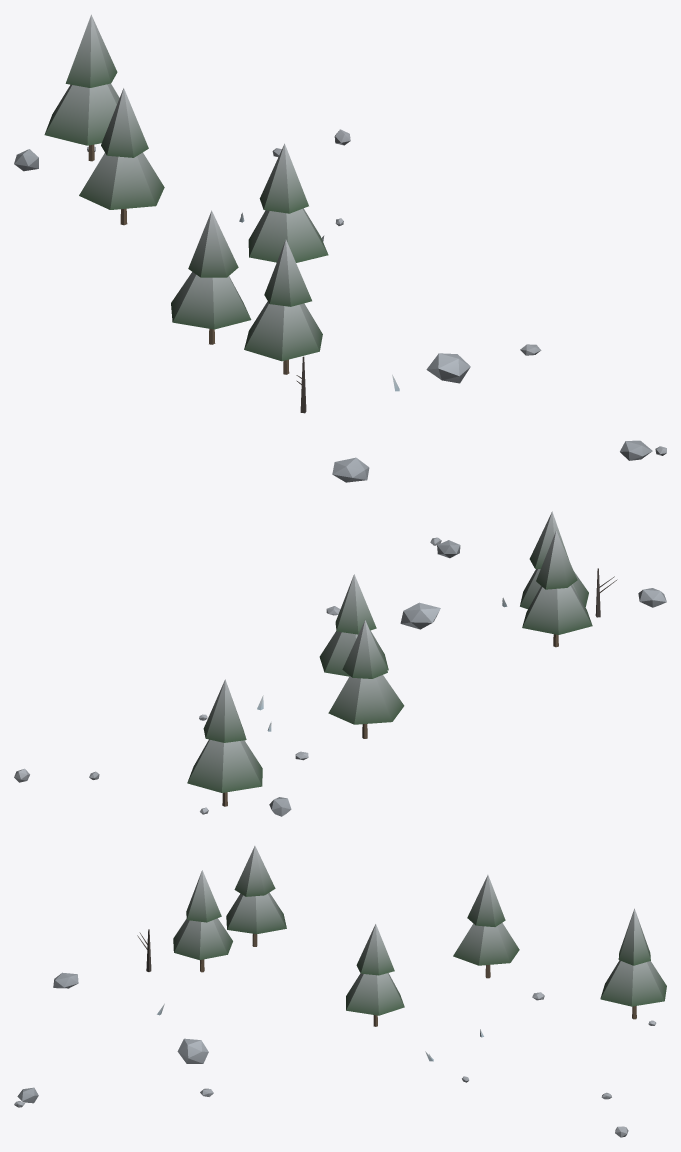
Rendered from frost_land_scatter_c22_10_lod1.glb.
The picture shows the model from 3 angles, top to bottom: view 1: azimuth 30°, elevation 25°; view 2: azimuth 150°, elevation 25°; view 3: azimuth 270°, elevation 25°; orthographic projection. The views are drawn at different scales.
Visible parts, largest first — view 1: frost_land_scatter_c22_10_lod1; view 2: frost_land_scatter_c22_10_lod1; view 3: frost_land_scatter_c22_10_lod1.
Boxes of the visible parts, x1,y1,x2,y2 form: frost_land_scatter_c22_10_lod1: (14, 14, 666, 482); frost_land_scatter_c22_10_lod1: (14, 511, 666, 816); frost_land_scatter_c22_10_lod1: (14, 846, 666, 1137).
Size of the model in its own units: 48.11 by 22.39 by 85.34.
